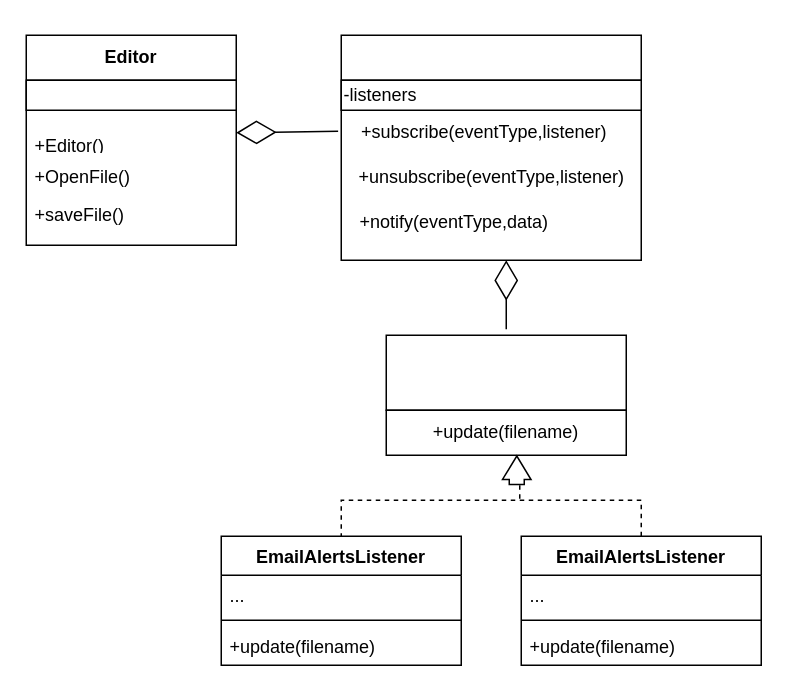
The diagram is 788 pixels wide and 696 high, and some of its shapes have lost their labels. The shapes that lost their labels are listed below. From the top down, each one's box as (x1, y1, x2, y2) in pixels, then its label:
(25, 79, 236, 110): +events:EventManager
(340, 34, 641, 260): EventManager
(385, 334, 626, 410): «interface» EventListeners
